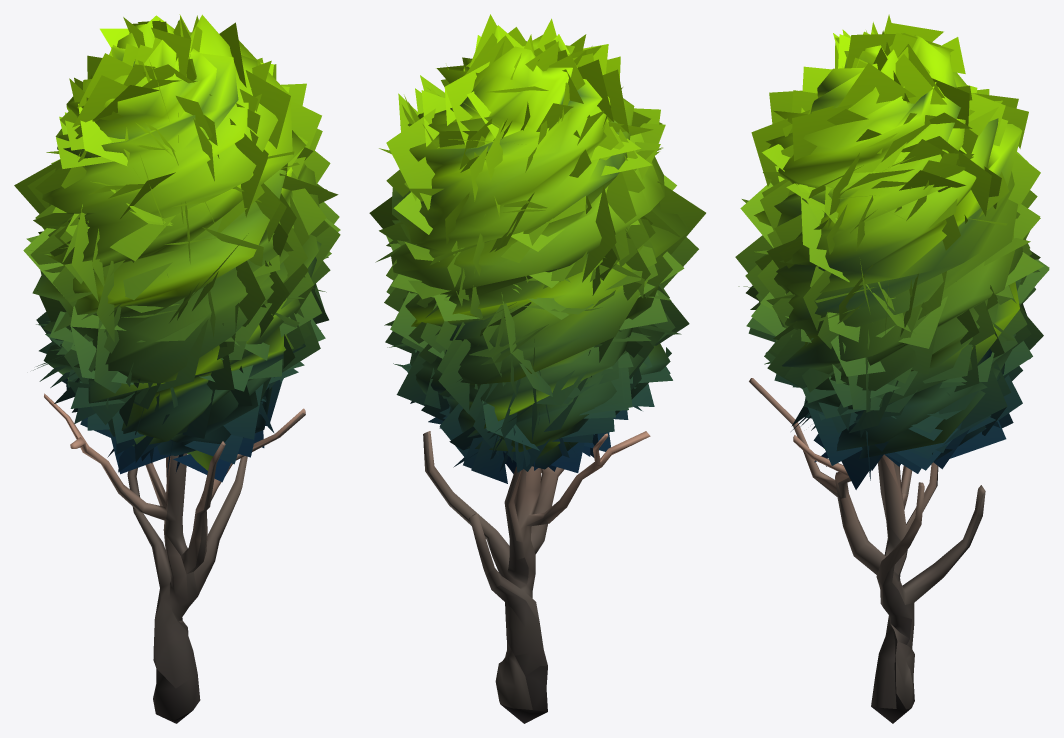
Rendered from Forest_Tree_2A.fbx.
The picture shows the model from 3 angles, left to right: view 1: azimuth 30°, elevation 25°; view 2: azimuth 150°, elevation 25°; view 3: azimuth 270°, elevation 25°; orthographic projection. The views are drawn at different scales.
Parts seen in each view (by area): view 1: Forest_Tree_2A; view 2: Forest_Tree_2A; view 3: Forest_Tree_2A.
Part boxes in pixels (left/top/right/bottom): Forest_Tree_2A: left=14, top=14, right=340, bottom=723; Forest_Tree_2A: left=369, top=14, right=705, bottom=723; Forest_Tree_2A: left=735, top=14, right=1049, bottom=723.
Size of the model in its own units: 241 by 552 by 229.
